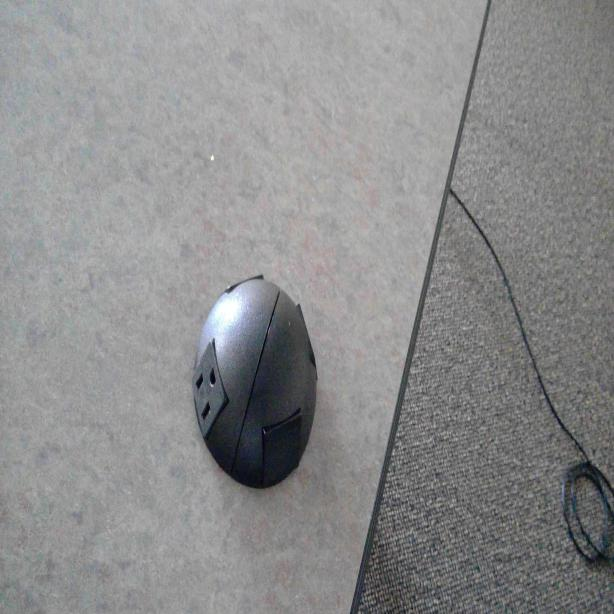typeb: (187, 355, 226, 432)
